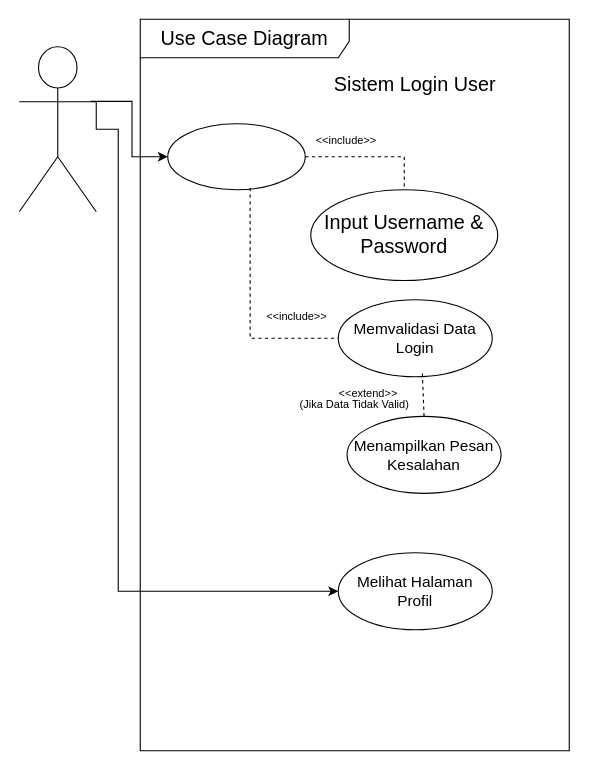
This 589x770 diagram has some shape labels left out. Here are the shapes that lost their labels. From the top down, the centre of each, then its label:
At (x=57, y=129): "User".
At (x=236, y=156): "Login".
